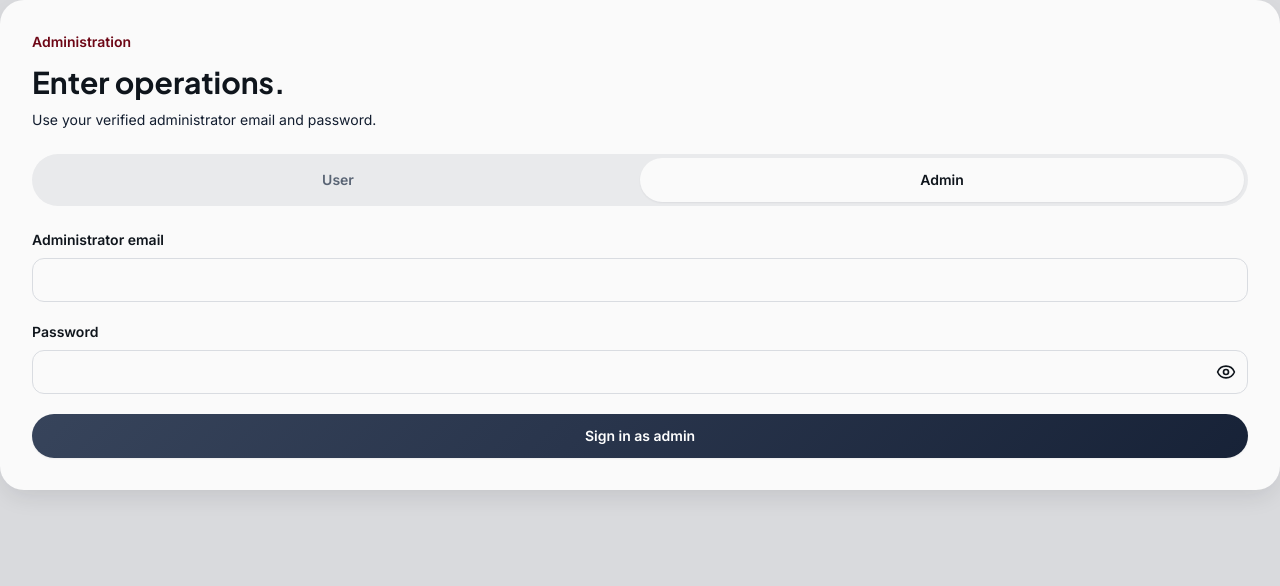
Test: LoginPage › rejects a non-admin token submitted through the admin tab
This screenshot has width=1280, height=586.
Type "person@example.com" into the field labelled "Administrator email" at (640, 280), box [32,258,1248,302]
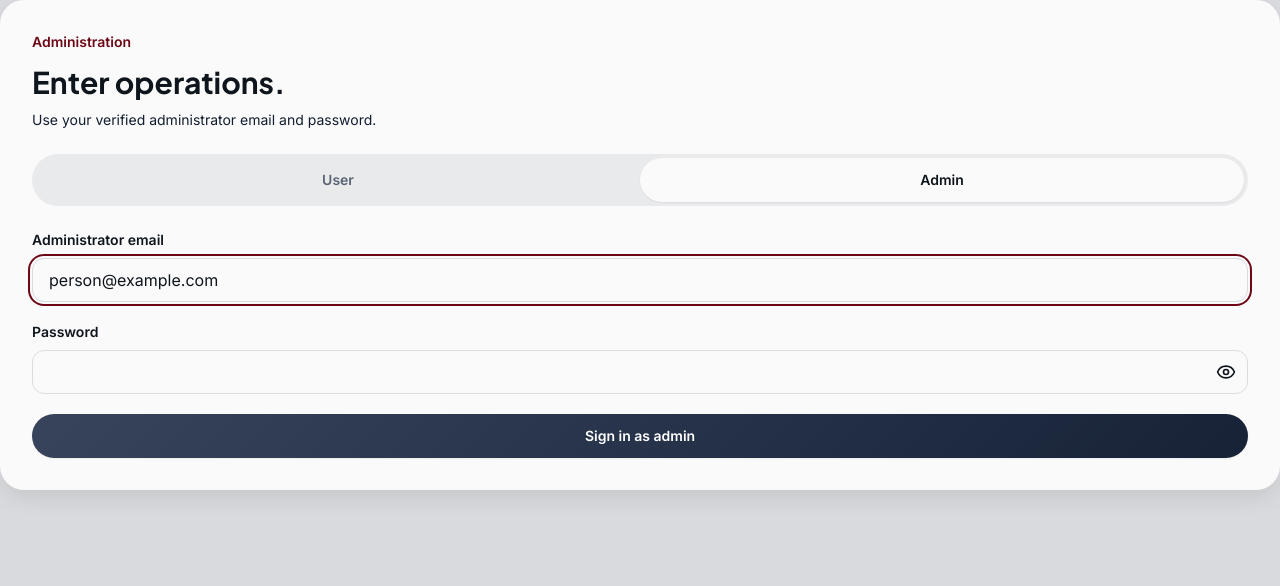
Type "long-enough" into the password field labelled "Password" at (640, 372), box [32,350,1248,394]
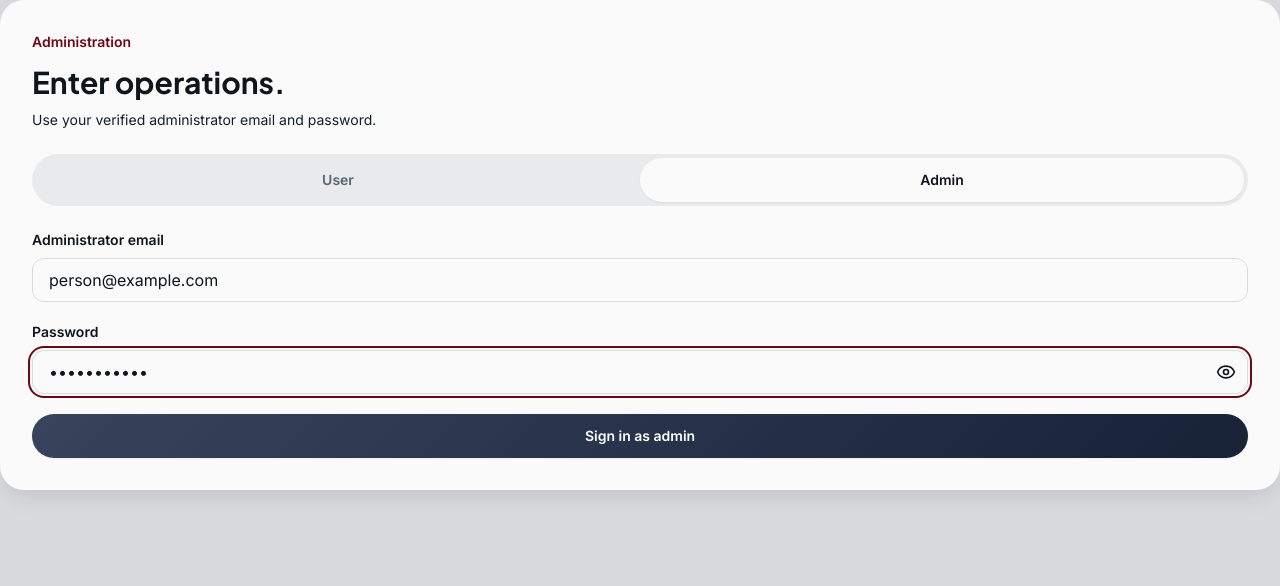
Click the button "Sign in as admin" at (640, 436), box [32,414,1248,458]
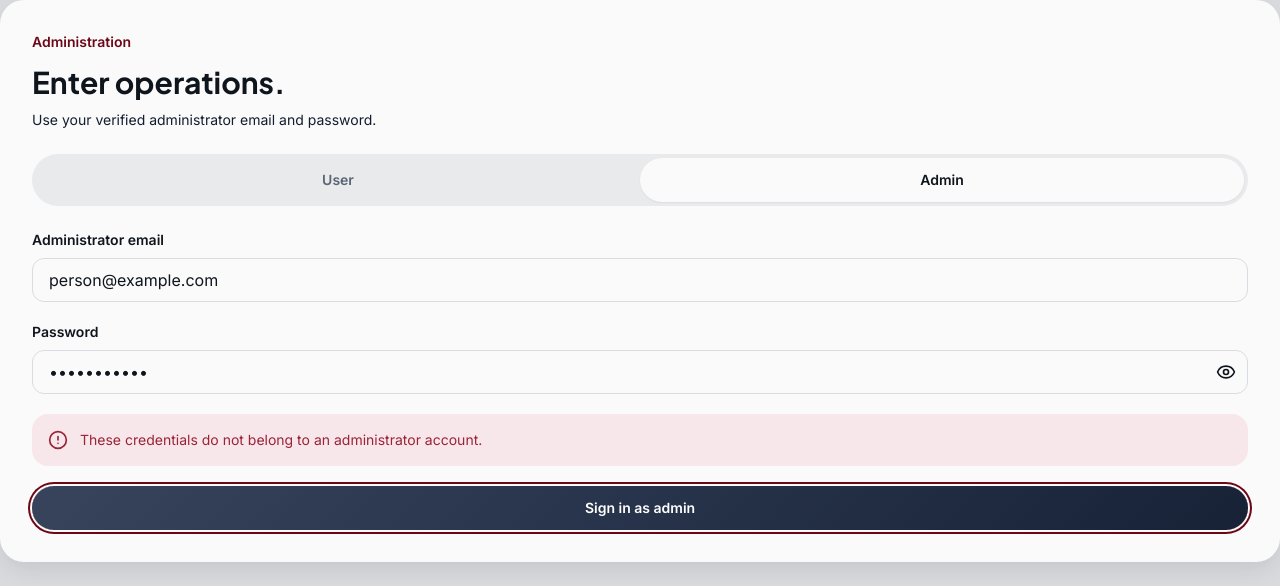
Check: the text "These credentials do not belong to an administrator account." is shown, box [80,430,482,450]
